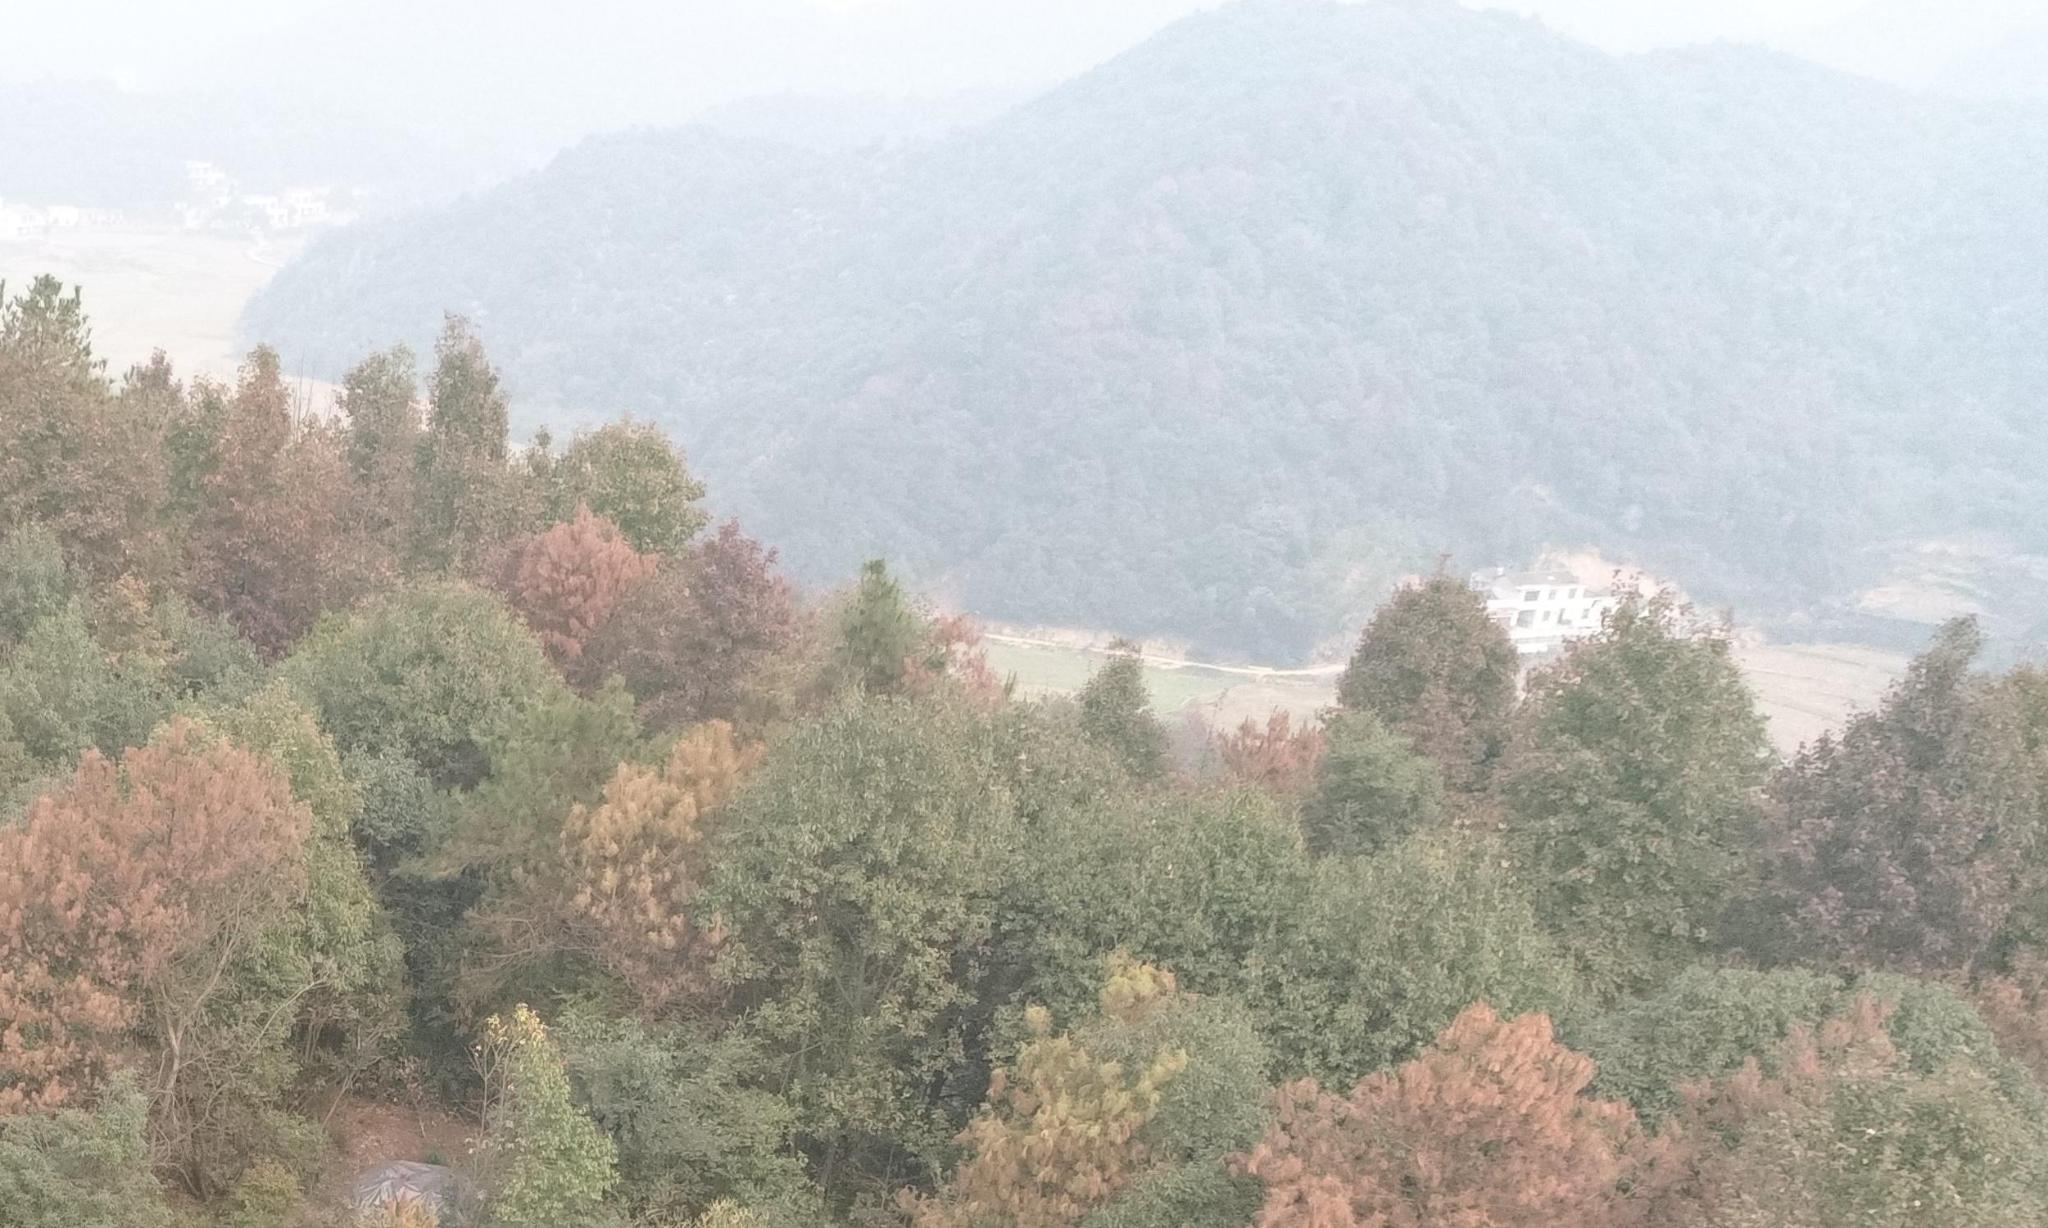heavy: (35, 710, 288, 1110), (1260, 1000, 1624, 1216), (553, 708, 746, 1012), (488, 506, 637, 677)
light: (957, 940, 1169, 1215)
